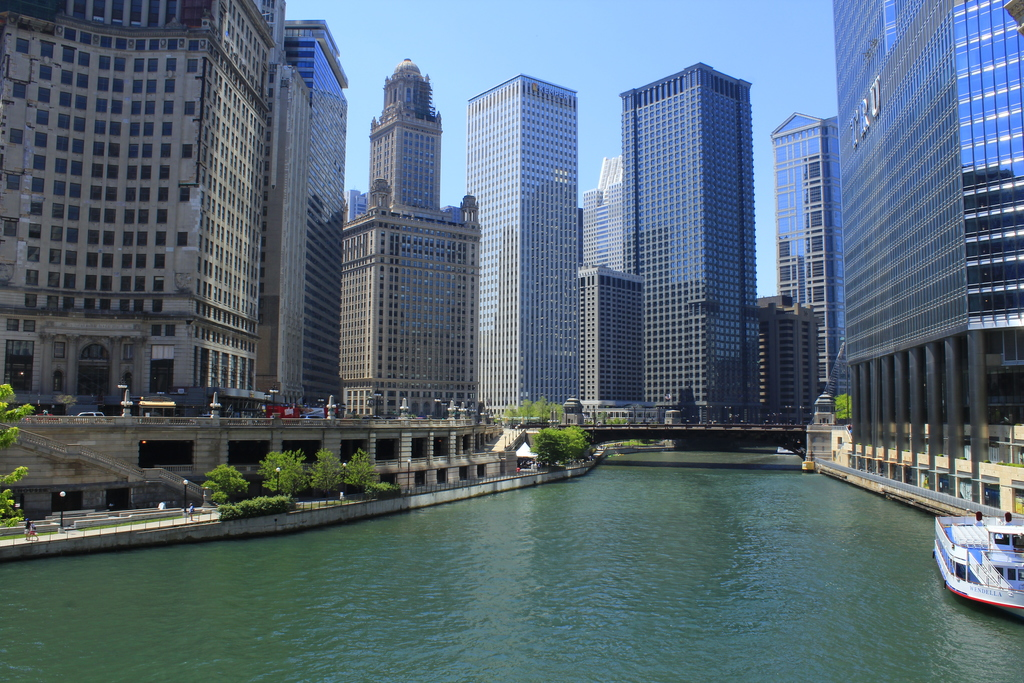Tree: (253, 447, 405, 505), (1, 382, 38, 533), (200, 463, 263, 512), (529, 426, 598, 470), (501, 399, 567, 424), (834, 392, 856, 424)
